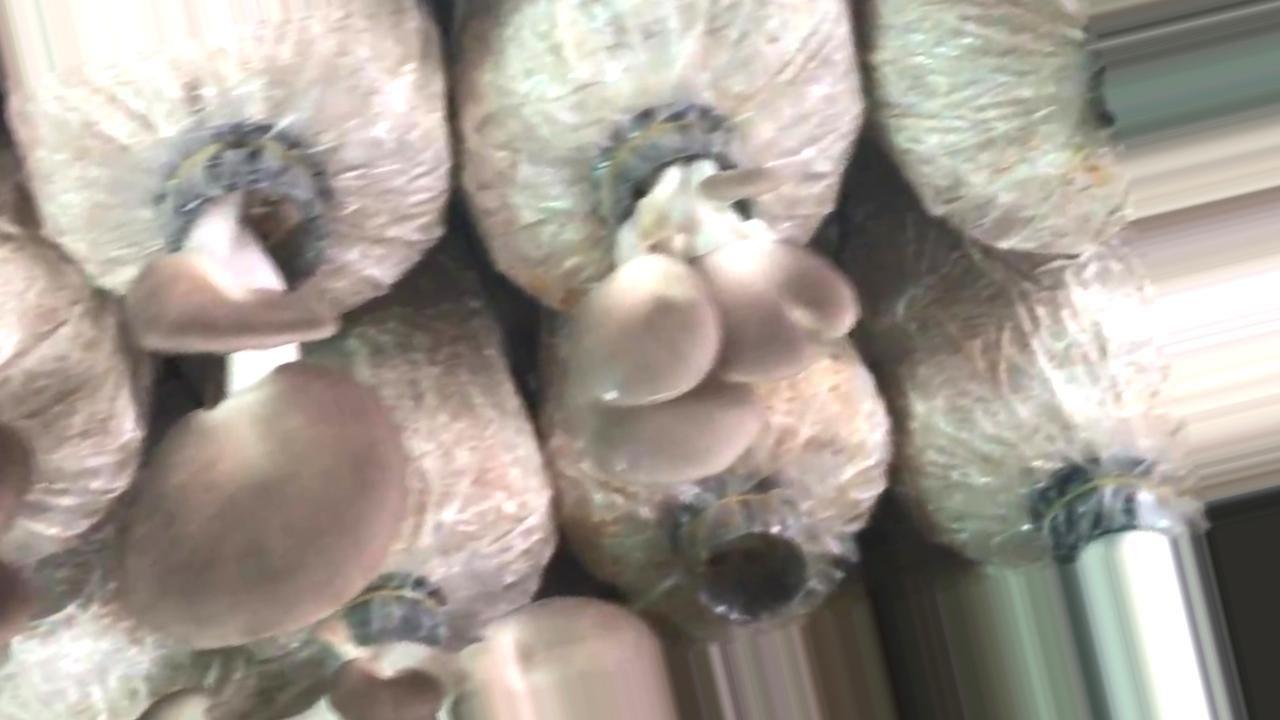nam: (110, 120, 411, 660), (561, 114, 860, 487)
